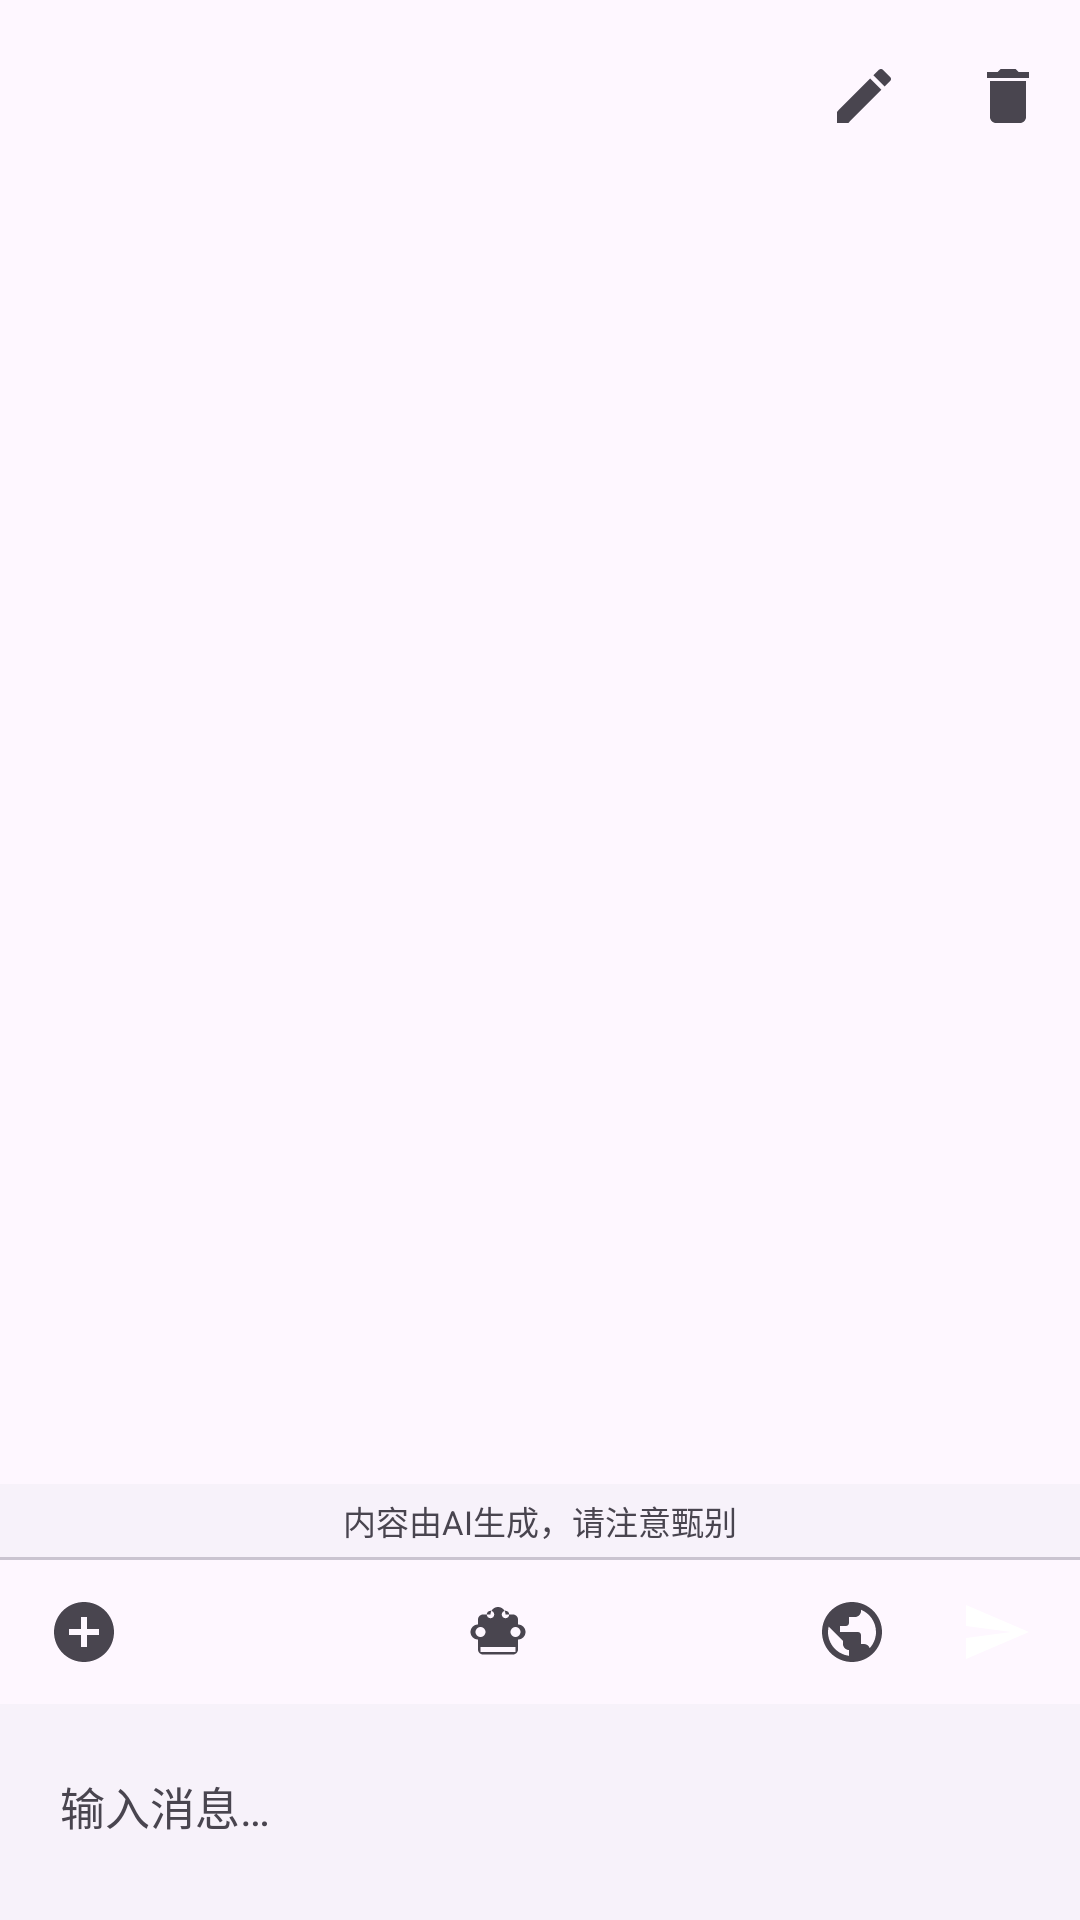

Where icons sit on this 1080px x 1920px app screen, as Rect(x1, y1, x2, y2):
联网搜索: Rect(822, 1602, 882, 1662)
选择模型: Rect(470, 1607, 526, 1655)
